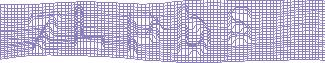7: (27, 12, 63, 55)
L: (73, 5, 106, 50)
P: (125, 12, 165, 59)
b: (176, 3, 211, 58)
s: (225, 6, 253, 47)
